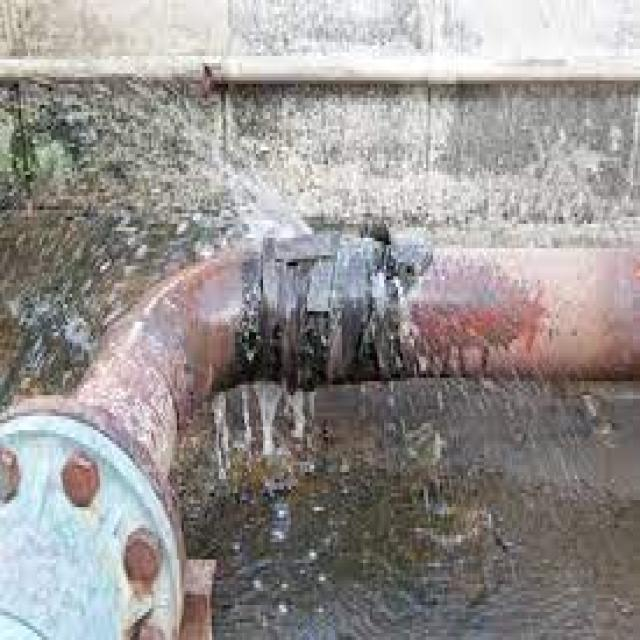corrosion: (202, 147, 475, 460)
